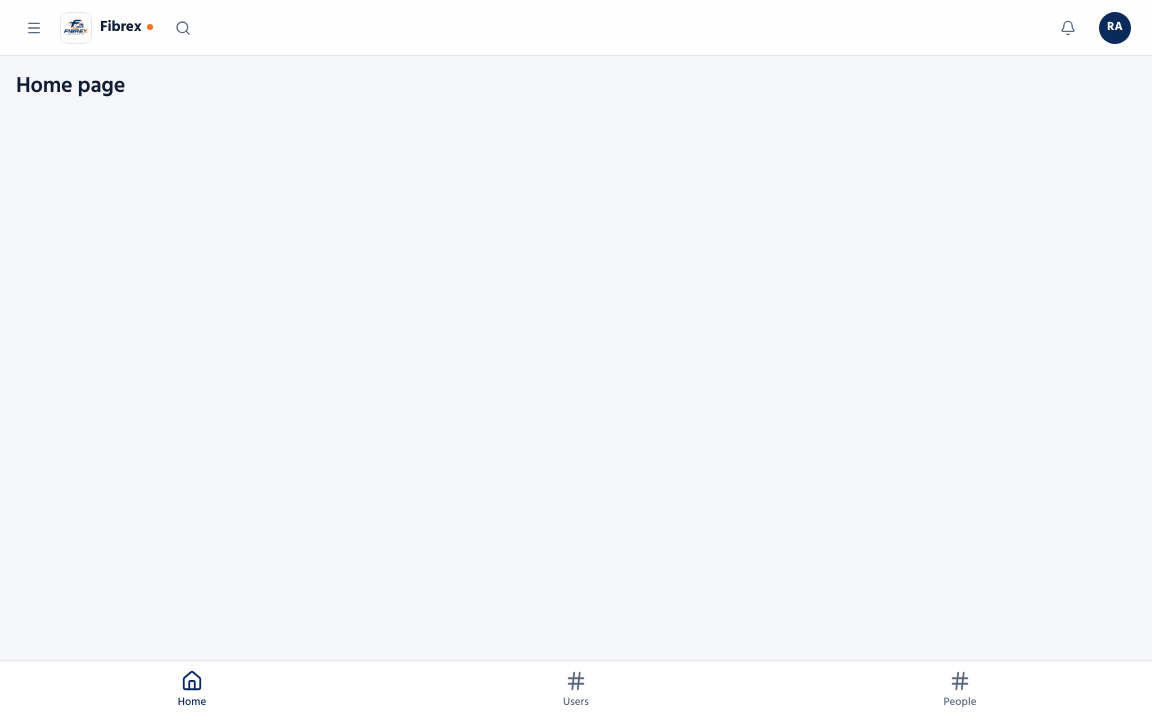
responsive shell › on a phone: hamburger opens the drawer, Escape closes it, a tab bar lists the main screens
The image size is (1152, 720).
expect the navigation bar named "Quick access" is shown: met, box [0, 660, 1151, 719]
Click the button named "Open menu" at (34, 28), box [16, 10, 52, 46]
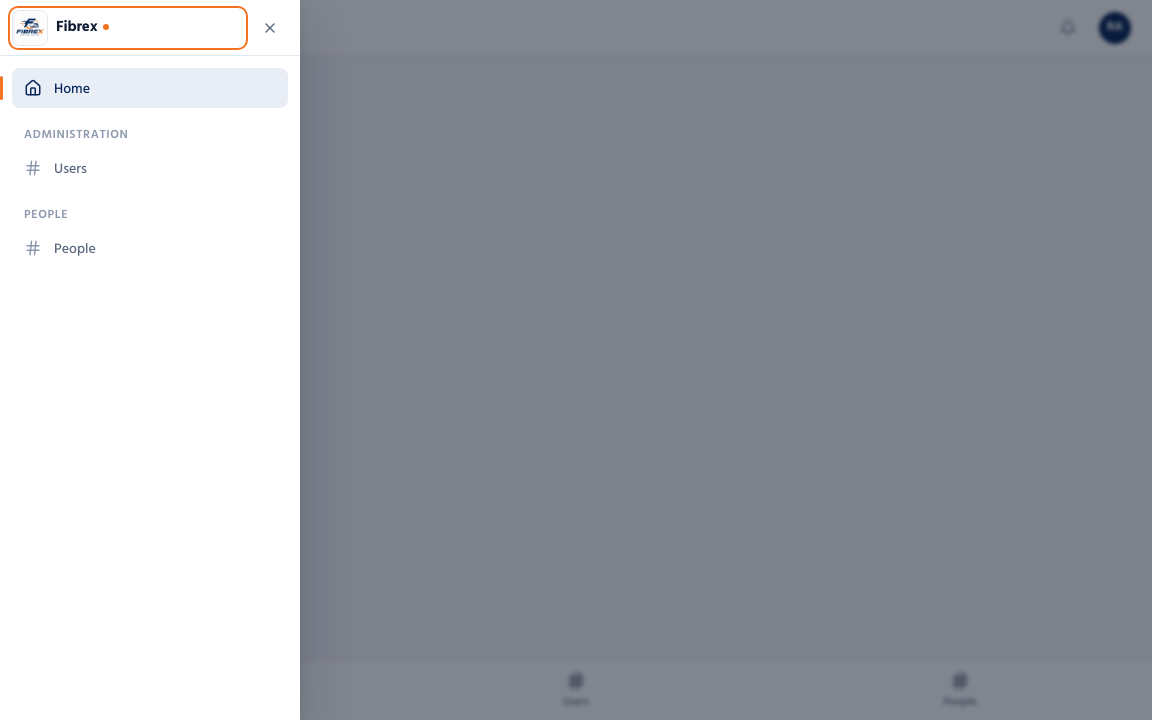
expect the navigation bar named "Menu" is shown: met, box [0, 0, 300, 719]
Press Escape
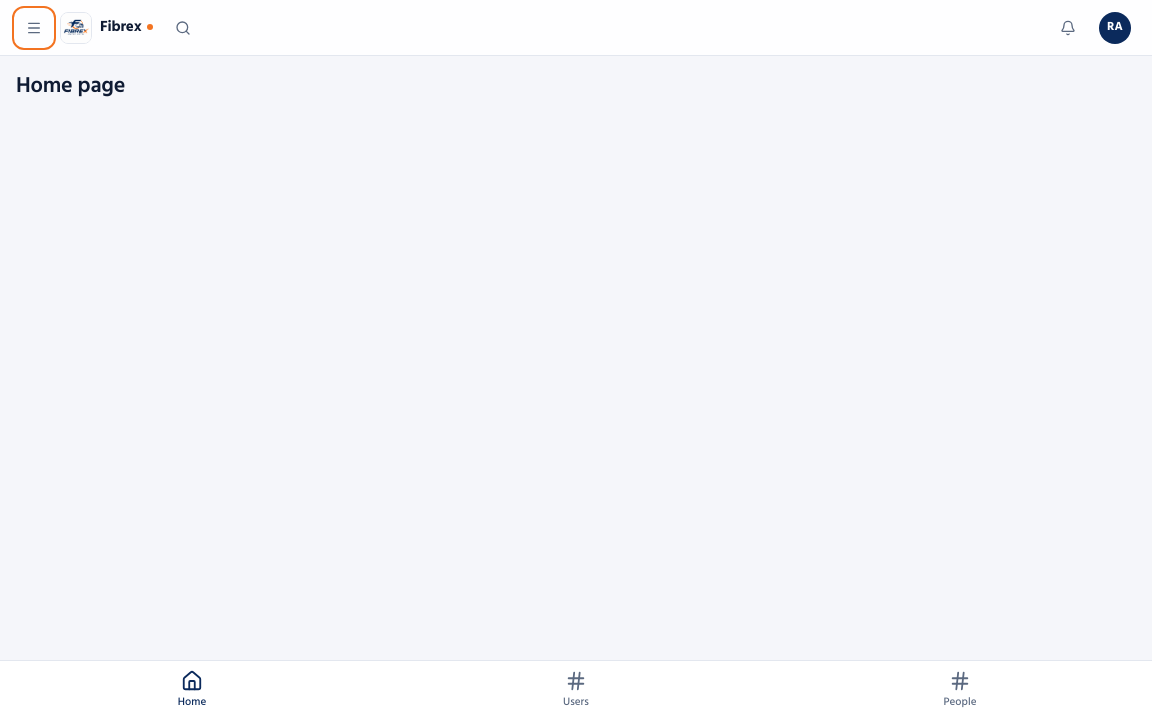
expect the navigation bar "Fibrex Home Administration Users People People" is gone: met
Click the button named "Open menu" at (34, 28), box [16, 10, 52, 46]
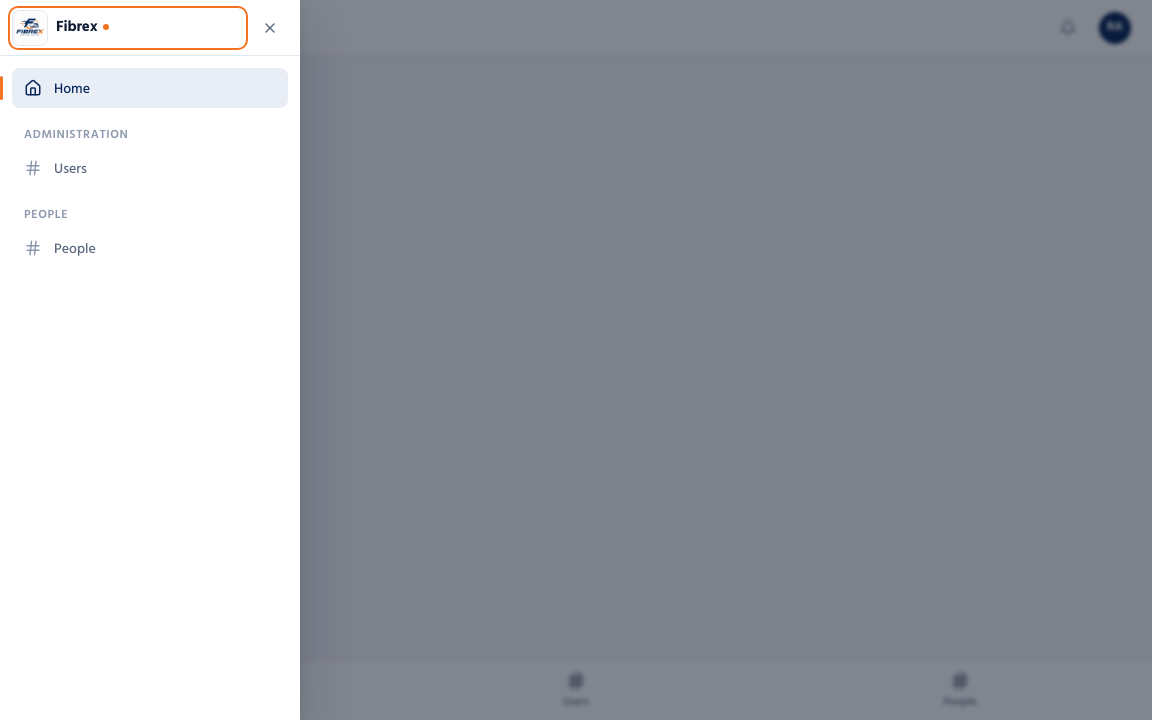
Click the link "Users" at (56, 168), box [24, 156, 87, 180]
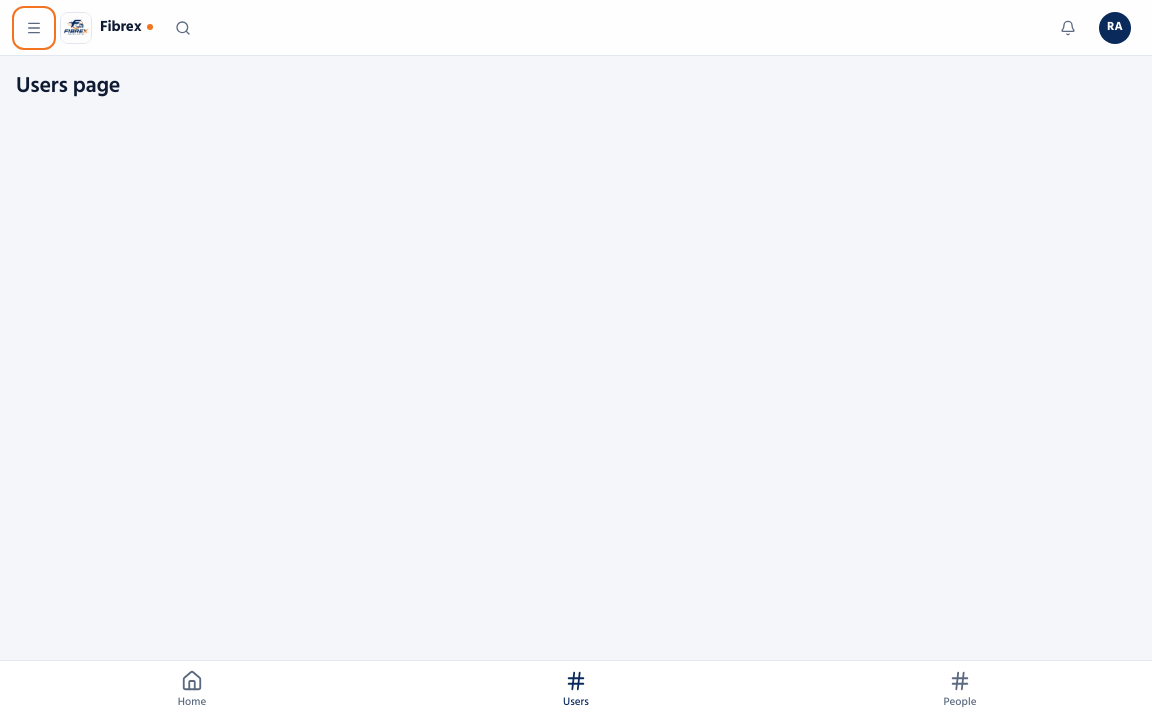
expect the heading "Users page" is shown: met, box [16, 67, 120, 103]
expect the navigation bar "Fibrex Home Administration Users People People" is gone: met
